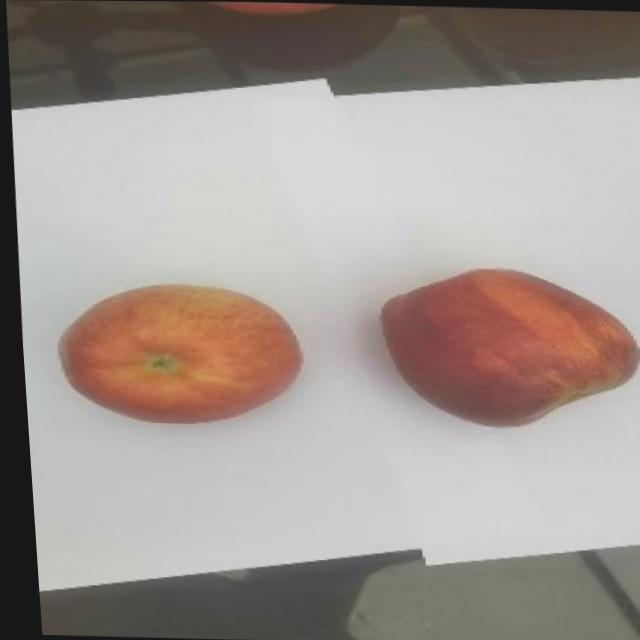Apple: (364, 258, 640, 433), (44, 277, 307, 428)
